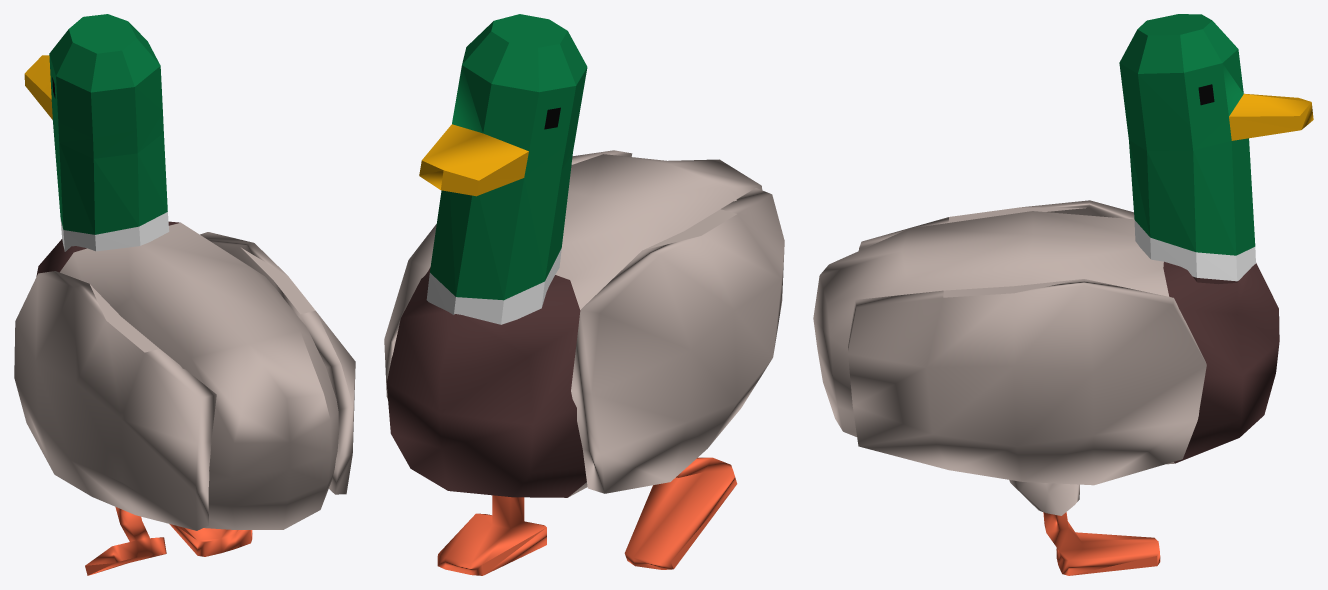
The model's file is duck.gltf.
The picture shows the model from 3 angles, left to right: view 1: azimuth 30°, elevation 25°; view 2: azimuth 150°, elevation 25°; view 3: azimuth 270°, elevation 25°; orthographic projection. The views are drawn at different scales.
Parts seen in each view (by area): view 1: body; view 2: body; view 3: body.
Part boxes in pixels (<box>): body: <box>14,14,355,575</box>; body: <box>384,14,784,575</box>; body: <box>813,14,1313,575</box>.
Bounding box in the file's own units: 0.2467 × 0.4706 × 0.42.
